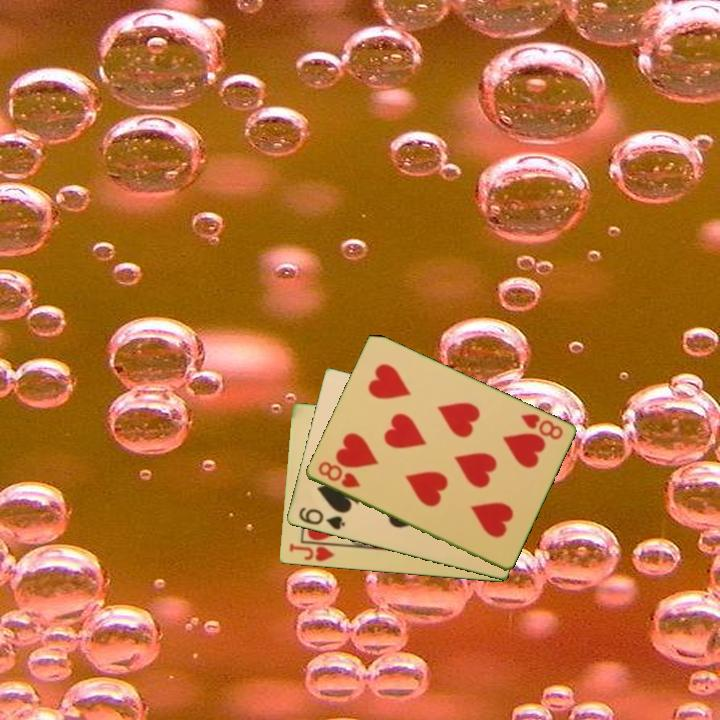6s: (295, 503, 348, 533)
8h: (314, 458, 363, 491), (517, 410, 566, 443)
Jh: (285, 540, 337, 565)
